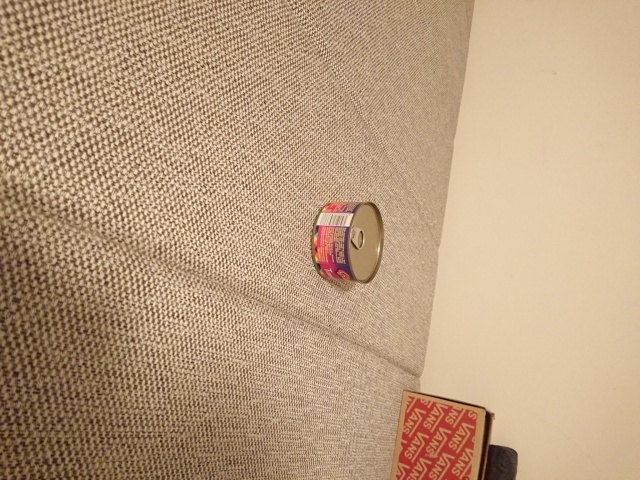Giana Tuna Salad Mexico 185g: (308, 200, 387, 288)
